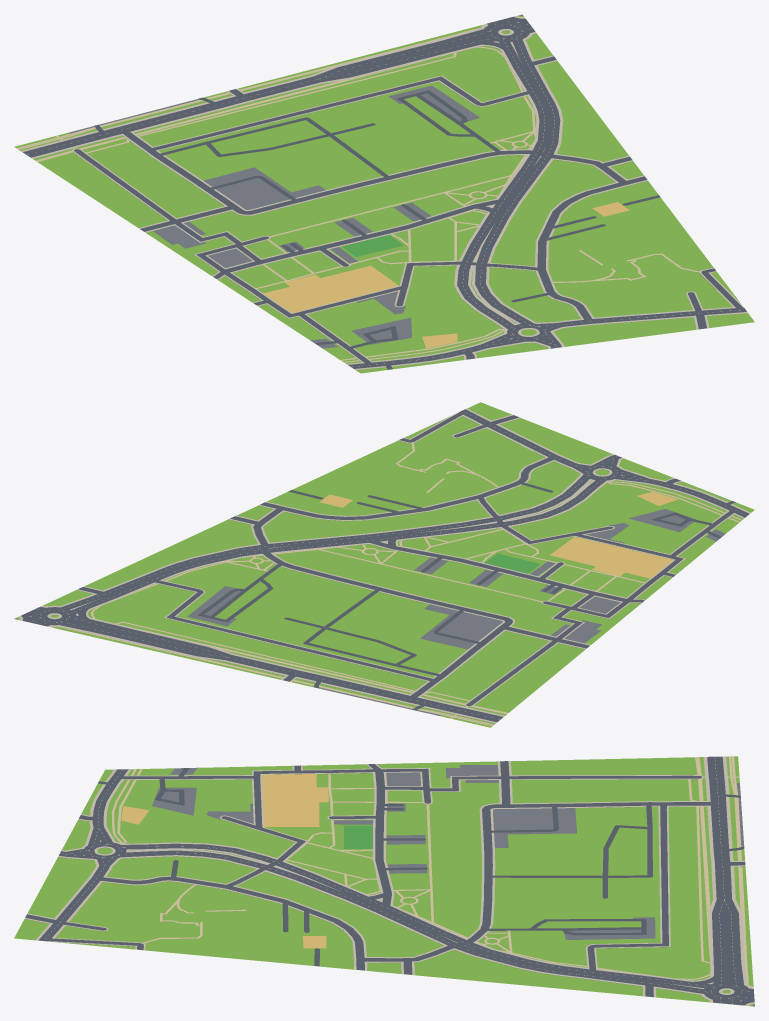
The model's file is ground.glb.
The picture shows the model from 3 angles, top to bottom: view 1: azimuth 30°, elevation 25°; view 2: azimuth 150°, elevation 25°; view 3: azimuth 270°, elevation 25°; orthographic projection. The views are drawn at different scales.
Visible parts, largest first — view 1: ground, roads, sidewalks; view 2: ground, roads, sidewalks; view 3: ground, roads, sidewalks.
Boxes of the visible parts, x1=… form: ground: x1=14, y1=14, x2=754, y2=373; roads: x1=23, y1=16, x2=746, y2=369; sidewalks: x1=16, y1=16, x2=747, y2=370; ground: x1=14, y1=402, x2=754, y2=727; roads: x1=21, y1=409, x2=749, y2=722; sidewalks: x1=18, y1=408, x2=750, y2=726; ground: x1=14, y1=756, x2=754, y2=1006; roads: x1=25, y1=756, x2=754, y2=1005; sidewalks: x1=24, y1=756, x2=754, y2=1005.
Bounding box in the file's own units: 495 × 0.147 × 619.
